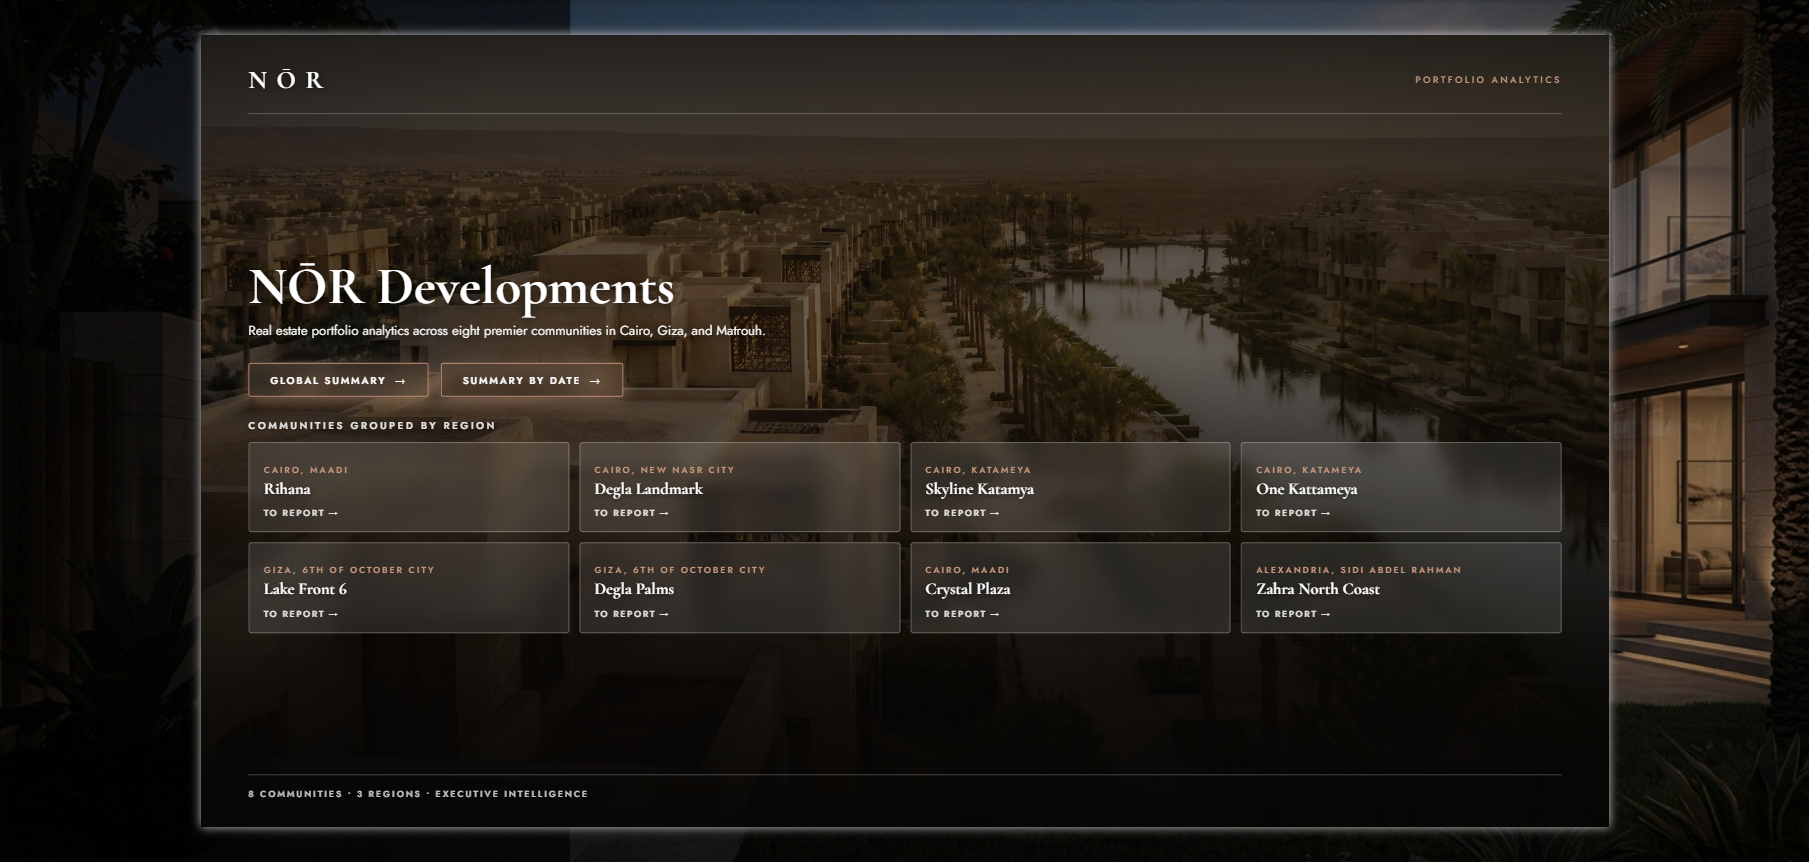

Layout of this report page (visuals, bound fields, positions):
{"tool":"powerbi","page":{"name":"Landing Page","canvas":[1280,720],"ordinal":0},"visuals":[{"type":"htmlContent443BE3AD55E043BF878BED274D3A6855","fields":{"content":["HTML Visuals.HTML Landing Page"]},"box":[0,0,1280,720],"z":0}]}

Visuals, with their boxes on the page's 1280x720 design canvas (x1, y1, x2, y2). These are canvas units, not pixel positions in the 1809x862 screenshot, which may show the page scaled, cropped or inside an application window:
htmlContent443BE3AD55E043BF878BED274D3A6855 - HTML Visuals.HTML Landing Page: <box>0,0,1280,720</box>
